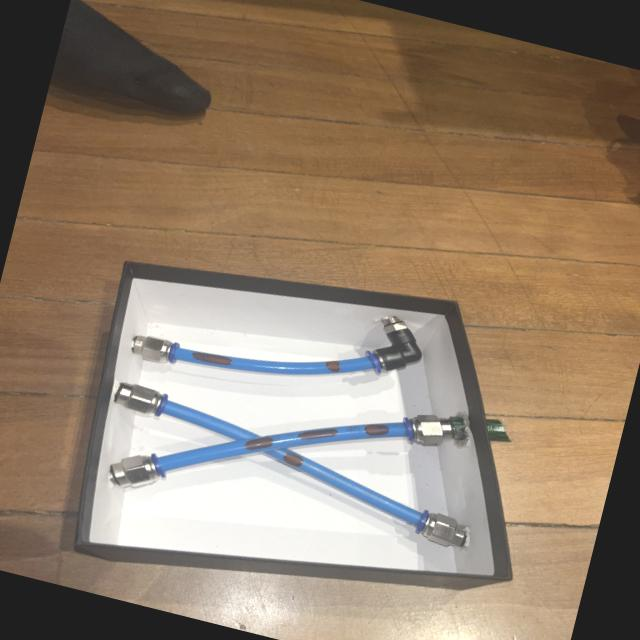hose_damage: (292, 425, 344, 442), (189, 349, 235, 368), (239, 434, 278, 452), (277, 449, 308, 470), (360, 421, 391, 438), (322, 358, 345, 374)
